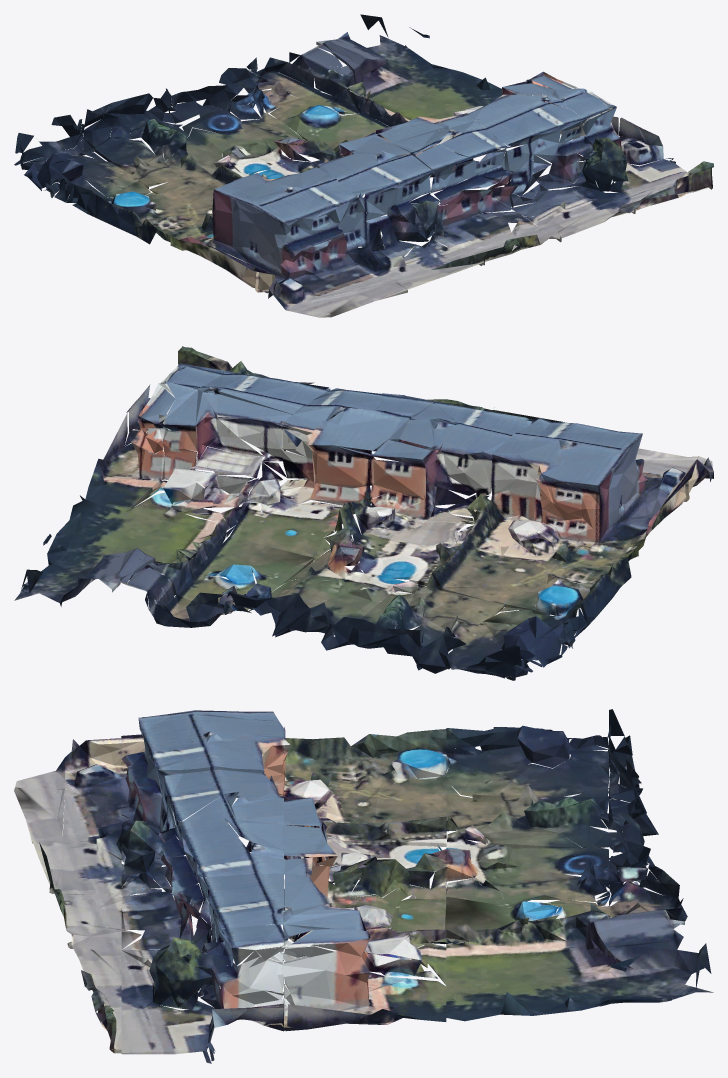
Rendered from house.gltf.
3 renders of one model, top to bottom at view 1: azimuth 30°, elevation 25°; view 2: azimuth 150°, elevation 25°; view 3: azimuth 270°, elevation 25°, orthographic. The views are drawn at different scales.
Parts seen in each view (by area): view 1: BuildingMesh-00023, BuildingMesh-00011, BuildingMesh-00026, BuildingMesh-00008, BuildingMesh-00000, BuildingMesh-00006, BuildingMesh-00022, BuildingMesh-00031, BuildingMesh-00037, BuildingMesh-00223; view 2: BuildingMesh-00023, BuildingMesh-00011, BuildingMesh-00026, BuildingMesh-00008, BuildingMesh-00000, BuildingMesh-00006, BuildingMesh-00022; view 3: BuildingMesh-00026, BuildingMesh-00023, BuildingMesh-00011, BuildingMesh-00000, BuildingMesh-00008, BuildingMesh-00006, BuildingMesh-00022, BuildingMesh-00031, BuildingMesh-00223, BuildingMesh-00037.
Boxes of the visible parts, x1,y1,x2,y2 form: BuildingMesh-00023: [247, 113, 536, 257]; BuildingMesh-00011: [87, 165, 372, 293]; BuildingMesh-00026: [449, 71, 708, 225]; BuildingMesh-00008: [168, 44, 406, 173]; BuildingMesh-00000: [14, 88, 239, 213]; BuildingMesh-00006: [316, 14, 501, 121]; BuildingMesh-00022: [254, 251, 407, 317]; BuildingMesh-00031: [372, 216, 561, 289]; BuildingMesh-00037: [558, 161, 713, 241]; BuildingMesh-00223: [541, 164, 713, 241]; BuildingMesh-00023: [224, 388, 539, 579]; BuildingMesh-00011: [409, 418, 691, 626]; BuildingMesh-00026: [85, 361, 331, 530]; BuildingMesh-00008: [117, 521, 405, 637]; BuildingMesh-00000: [321, 573, 586, 680]; BuildingMesh-00006: [14, 495, 213, 606]; BuildingMesh-00022: [635, 448, 713, 500]; BuildingMesh-00026: [120, 873, 446, 1063]; BuildingMesh-00023: [121, 769, 450, 949]; BuildingMesh-00011: [121, 710, 446, 846]; BuildingMesh-00000: [446, 709, 658, 848]; BuildingMesh-00008: [444, 812, 687, 948]; BuildingMesh-00006: [446, 915, 713, 1021]; BuildingMesh-00022: [14, 738, 122, 843]; BuildingMesh-00031: [32, 824, 121, 948]; BuildingMesh-00223: [67, 943, 121, 1053]; BuildingMesh-00037: [68, 942, 121, 1052].
Bounding box in the file's own units: 110 × 16.48 × 104.
12 materials, 12 textured.
